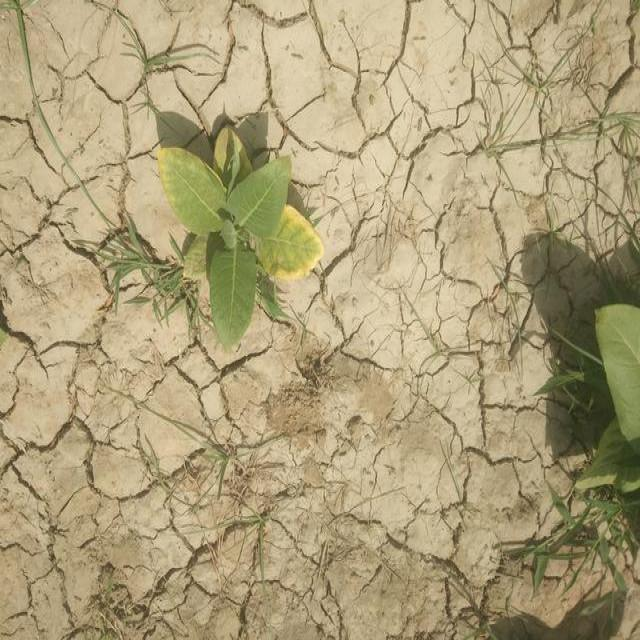crop: (164, 142, 314, 337)
